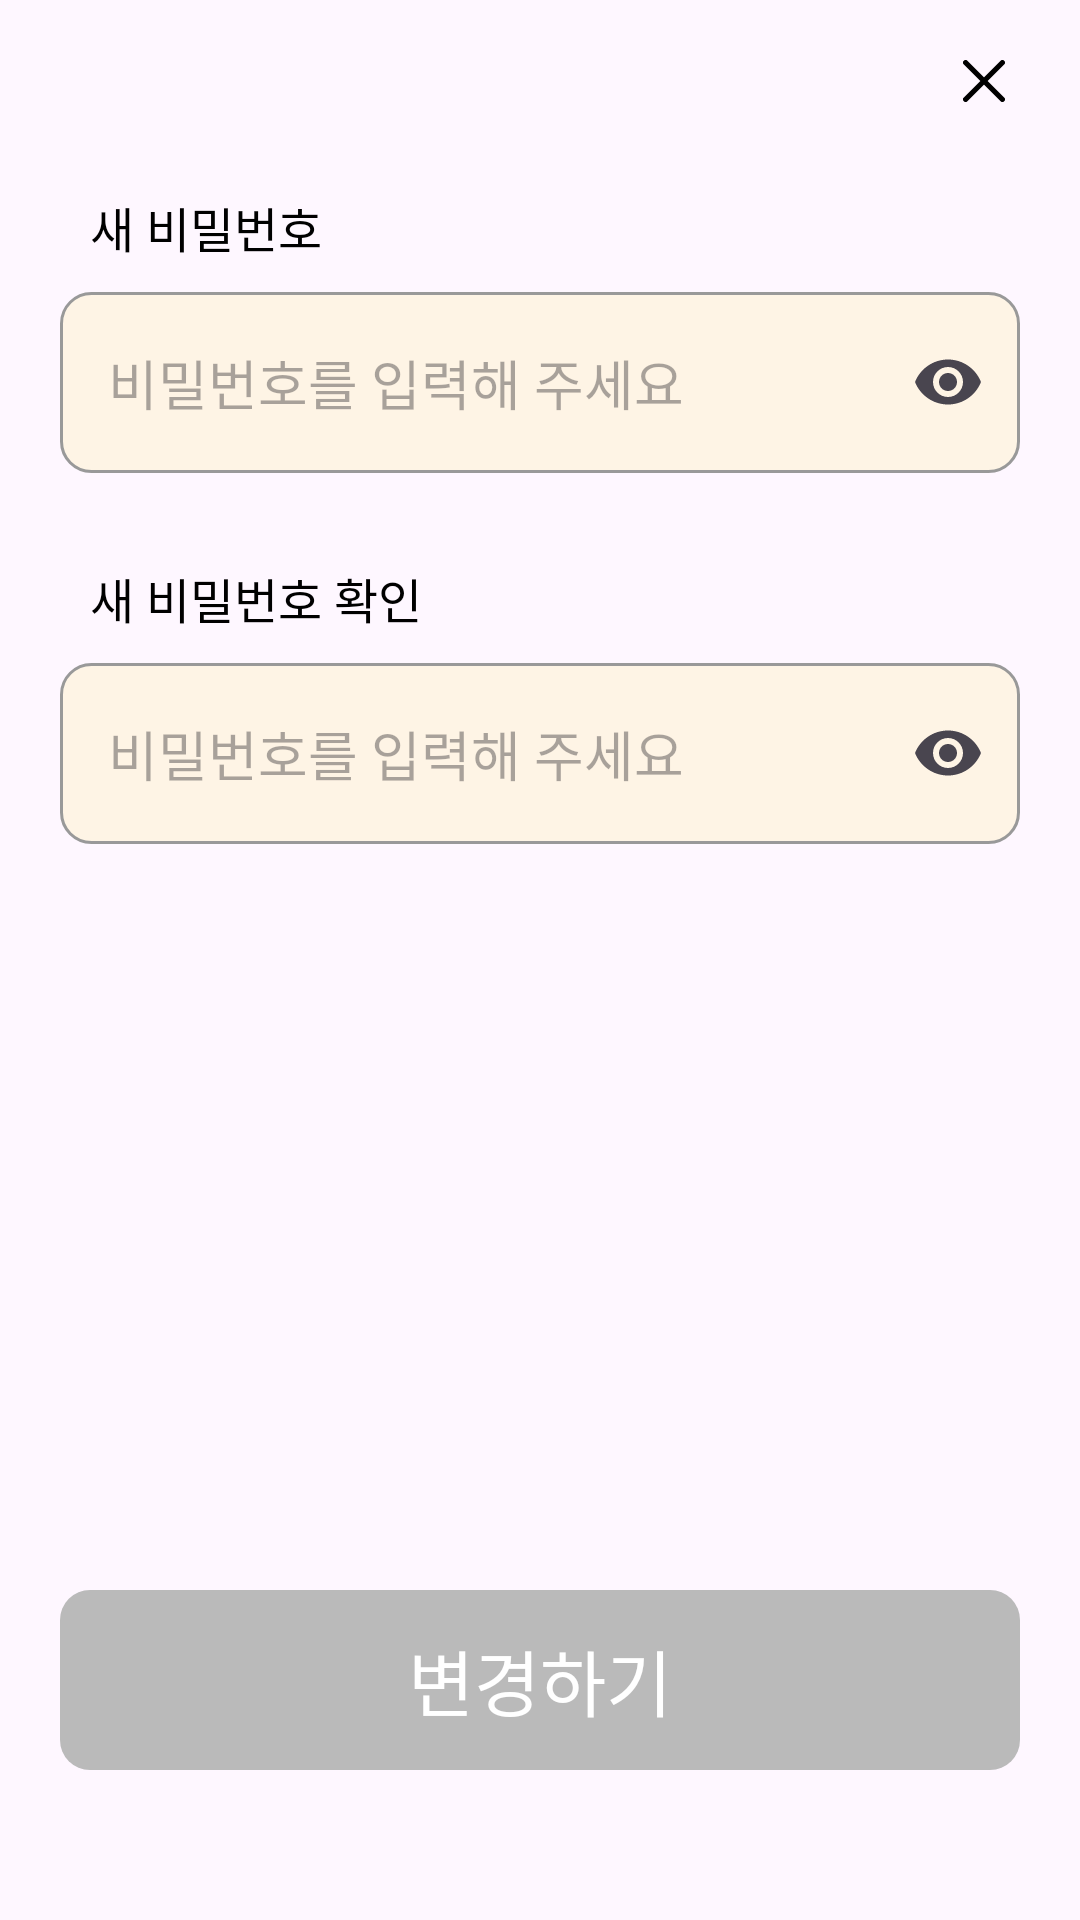

Icons on this 1080×1920 Android screen, each with its box as {"left": x1, "top": y1, "right": x2, "bottom": y2}:
close: {"left": 963, "top": 60, "right": 1005, "bottom": 102}
